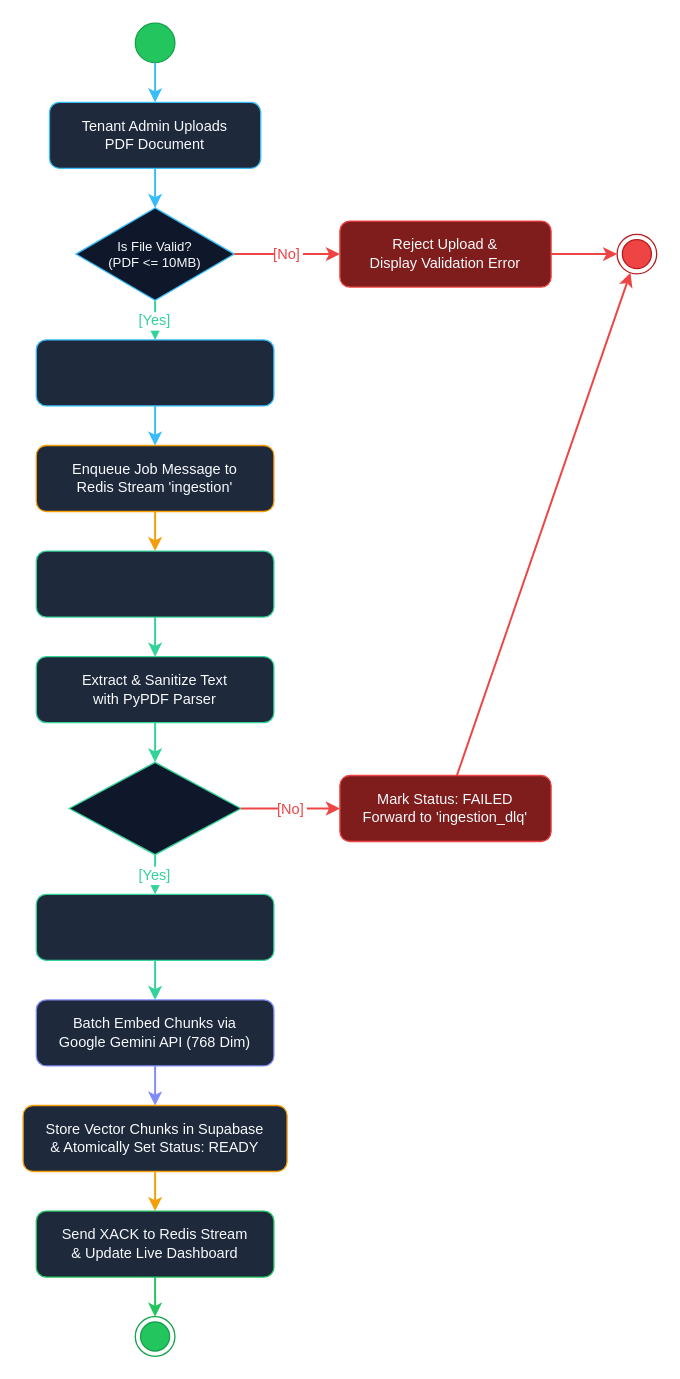
This 680x1379 diagram has some shape labels left out. Here are the shapes that lost their labels. From the top down, the box of each, then its label:
(35, 339, 274, 406): Persist File & Insert Record (Document status: PROCESSING)
(35, 550, 274, 617): Ingestion Worker Consumes Message via XREADGROUP
(68, 761, 241, 855): Extract OK & >=90% Printable?
(35, 893, 274, 960): Split Text into Semantic Chunks (<= 400 Tokens)
